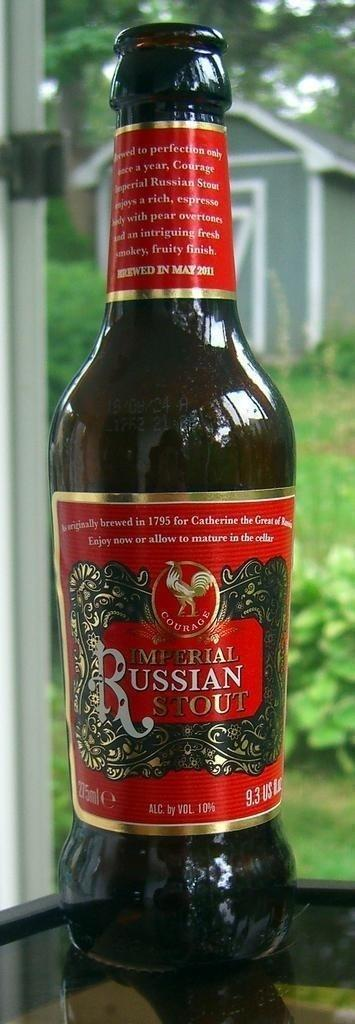bottle-glass: (39, 19, 305, 971)
